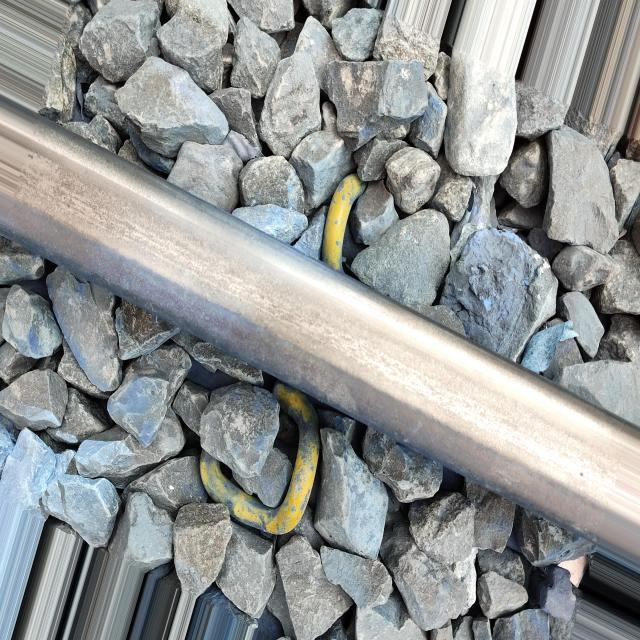Good Fasteners: (200, 381, 320, 535), (322, 174, 367, 271)
